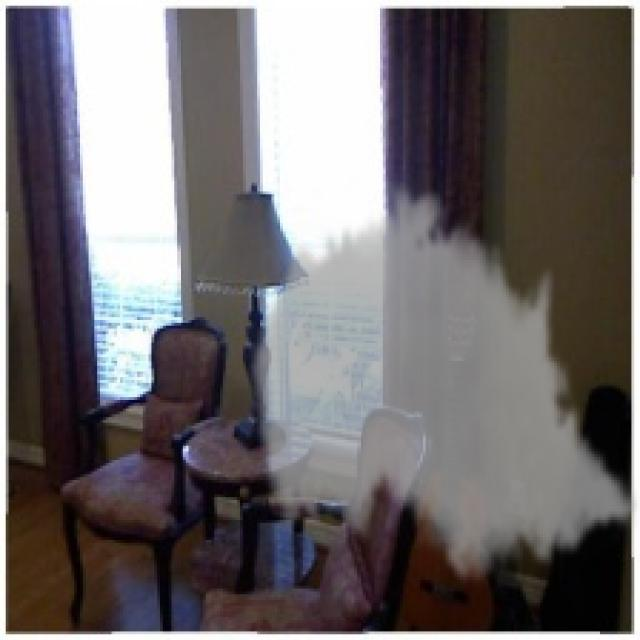smoke: (246, 177, 637, 597)
